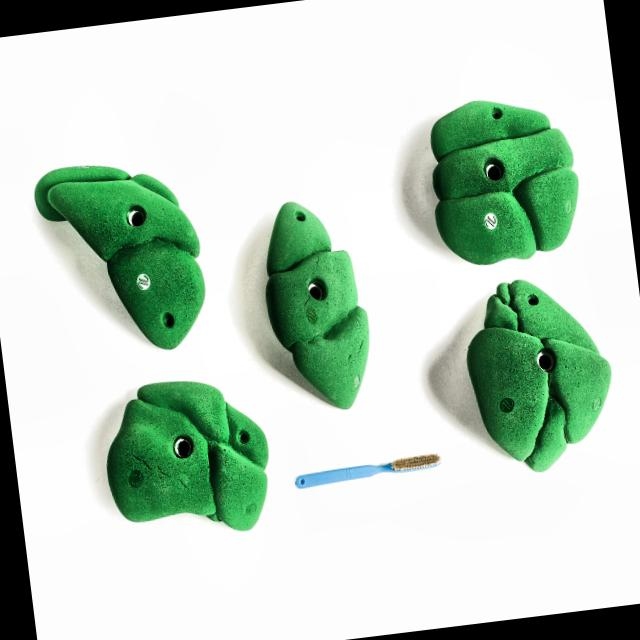Hold: (24, 156, 218, 360), (448, 274, 617, 476), (94, 368, 280, 548), (413, 86, 589, 272), (250, 194, 386, 430)
